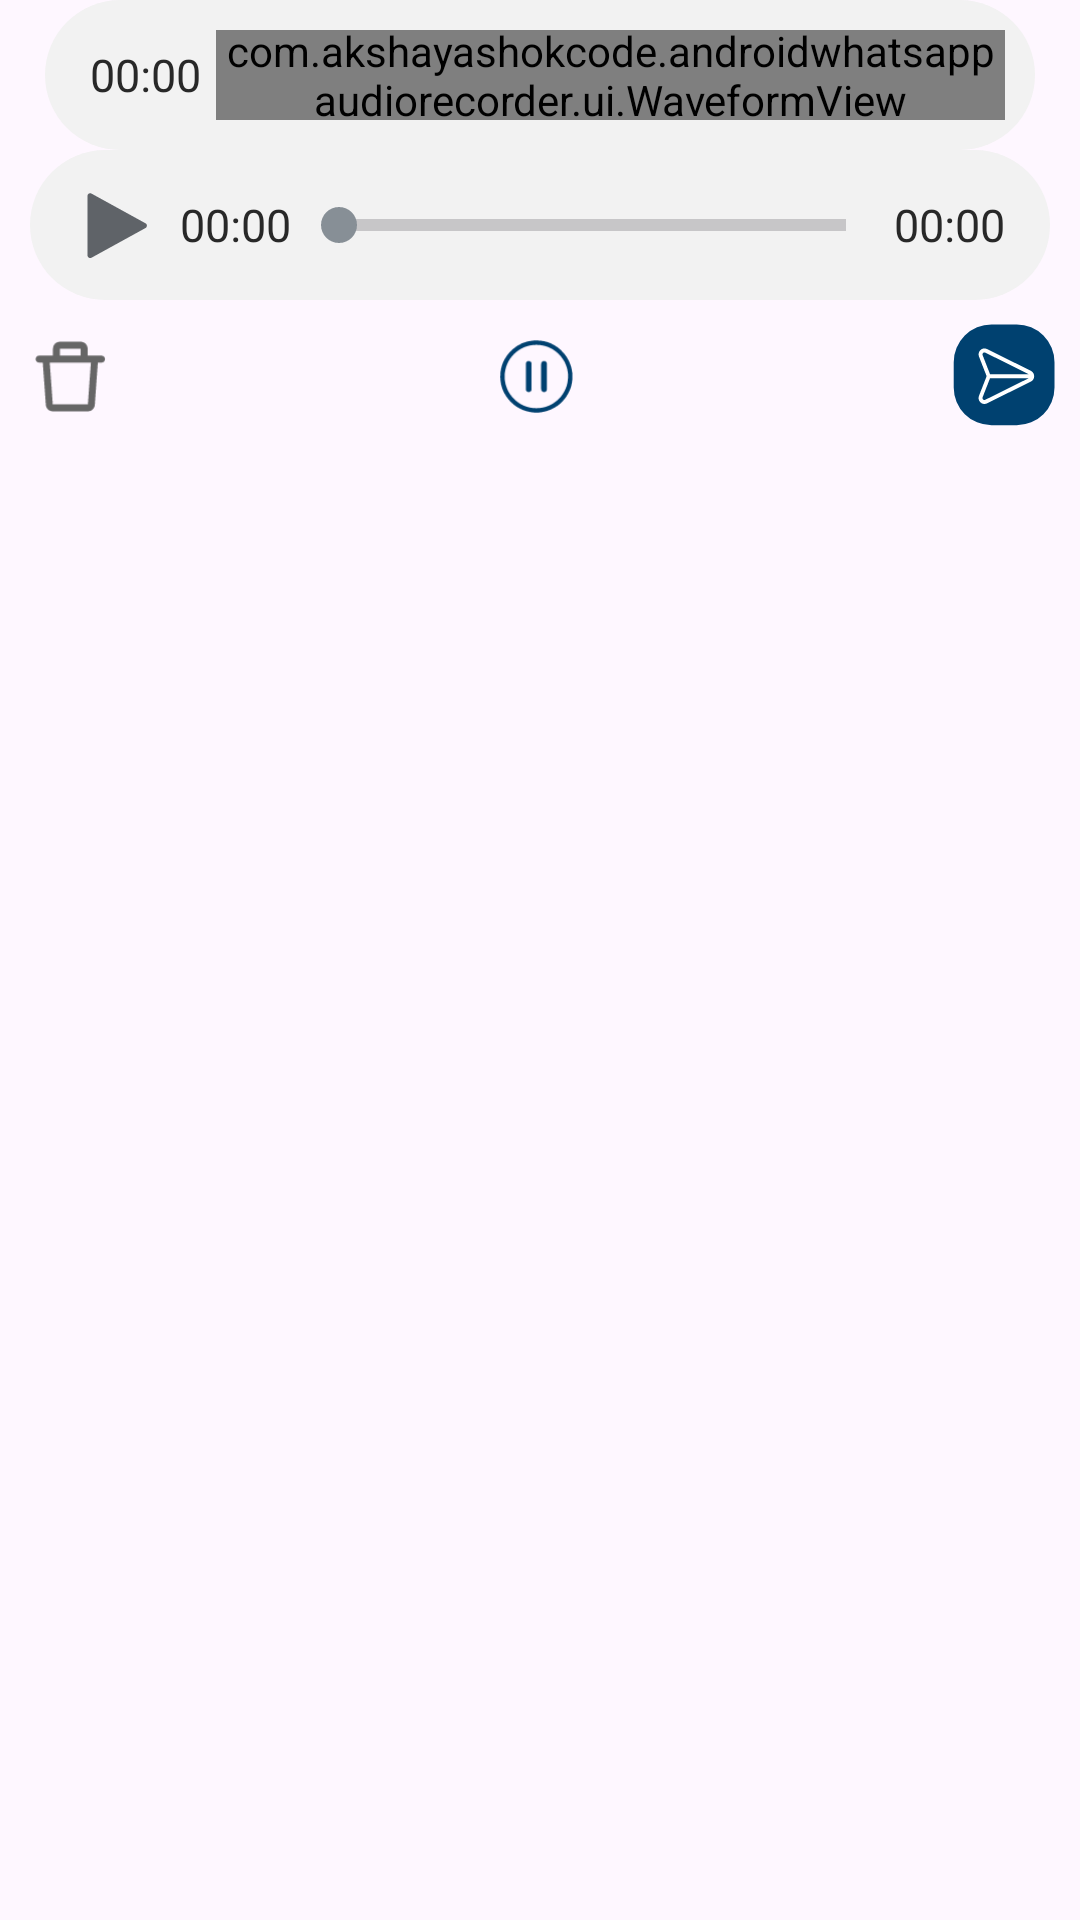

Icons on this 1080 x 1920 Android screen, each with the point to tap as (x,y):
chat audio delete: (70,376)
chat audio pause: (536,376)
chat audio player play: (117,225)
chat send: (1006,376)
